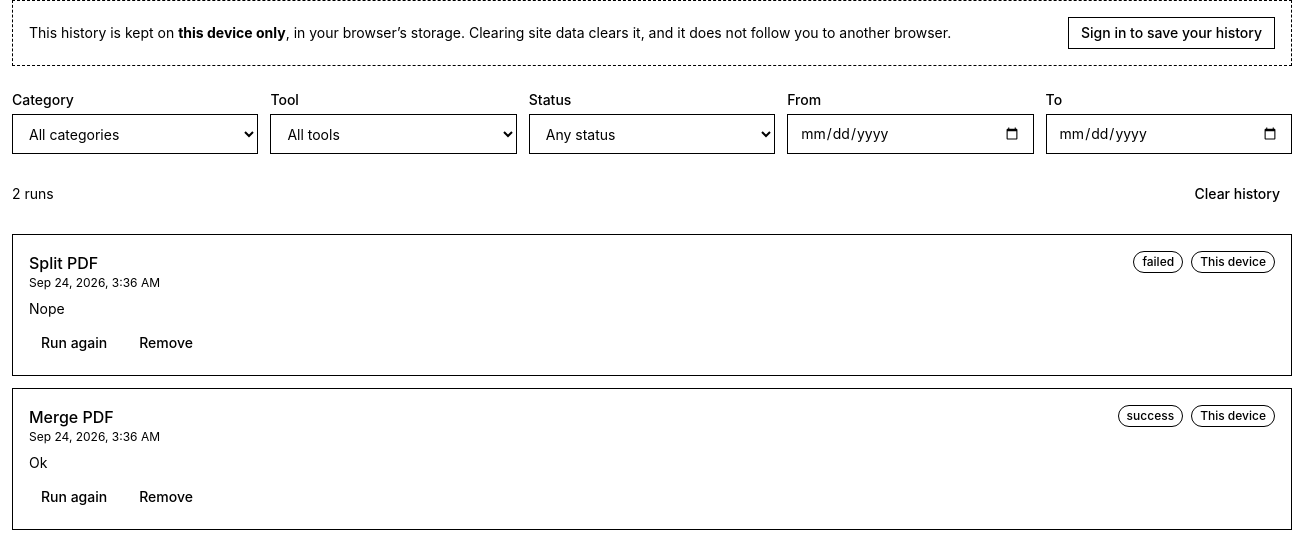
Test case: /history as a guest › filters by status without a request
Check: the text "2 runs" is shown, box [12,184,54,204]
Select "failed" in the dropdown labelled "Status": (652, 134) [529,114,775,154]
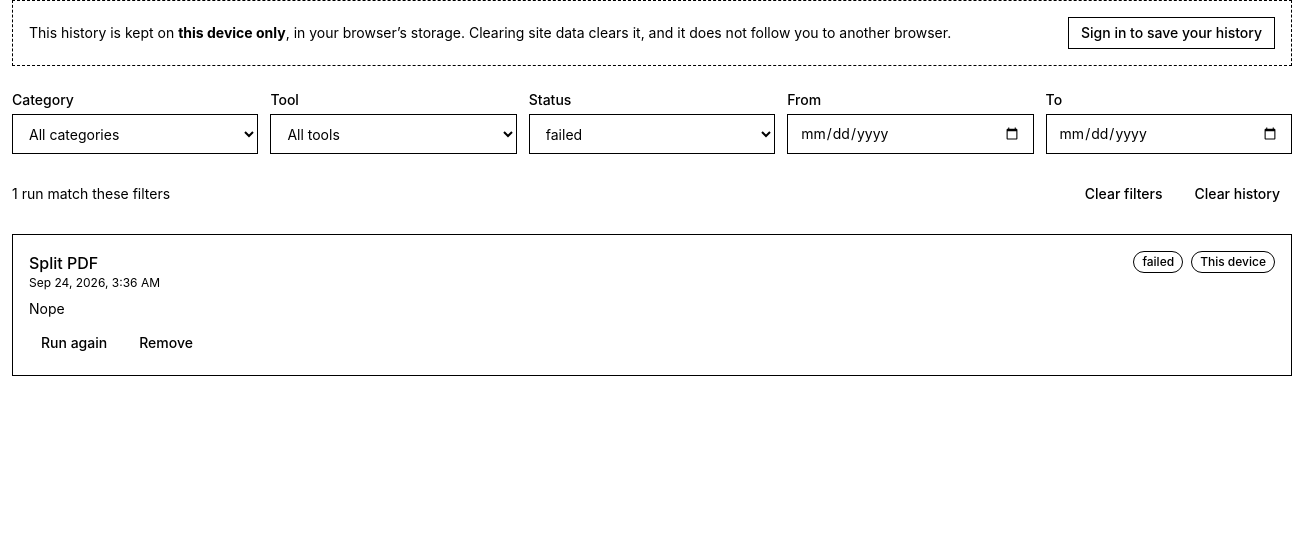
Check: the text "Nope" is shown, box [29,300,65,317]
Check: the text "1 run match these filters" is shown, box [12,184,170,204]
Check: the text "Ok" is gone
